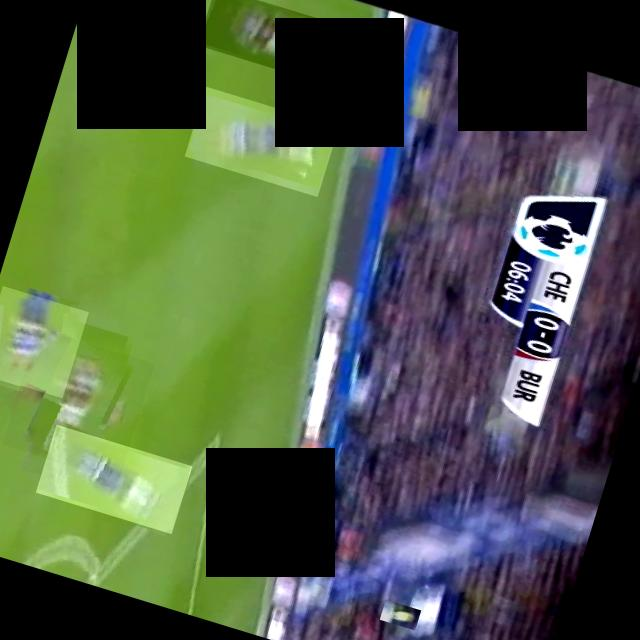ball: (379, 598, 421, 630)
referee: (75, 0, 137, 36)
soccer-player: (2, 328, 154, 480), (36, 423, 192, 532), (184, 86, 338, 196), (196, 0, 350, 85), (0, 285, 88, 398)
